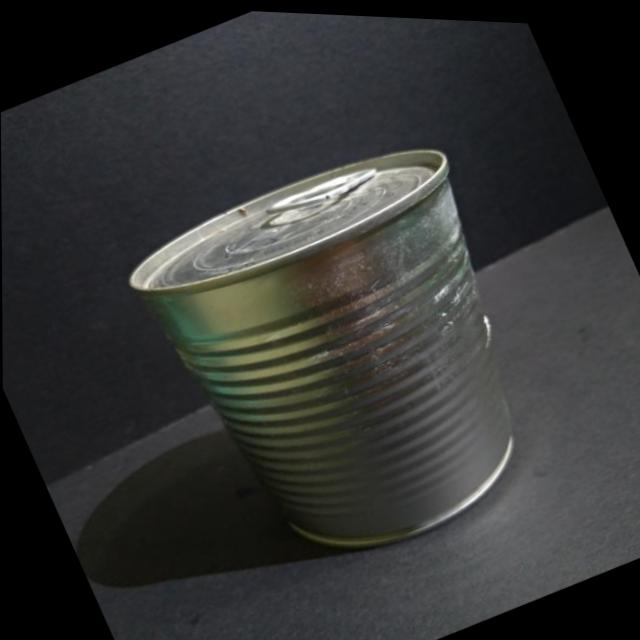metal: (79, 211, 636, 638)
